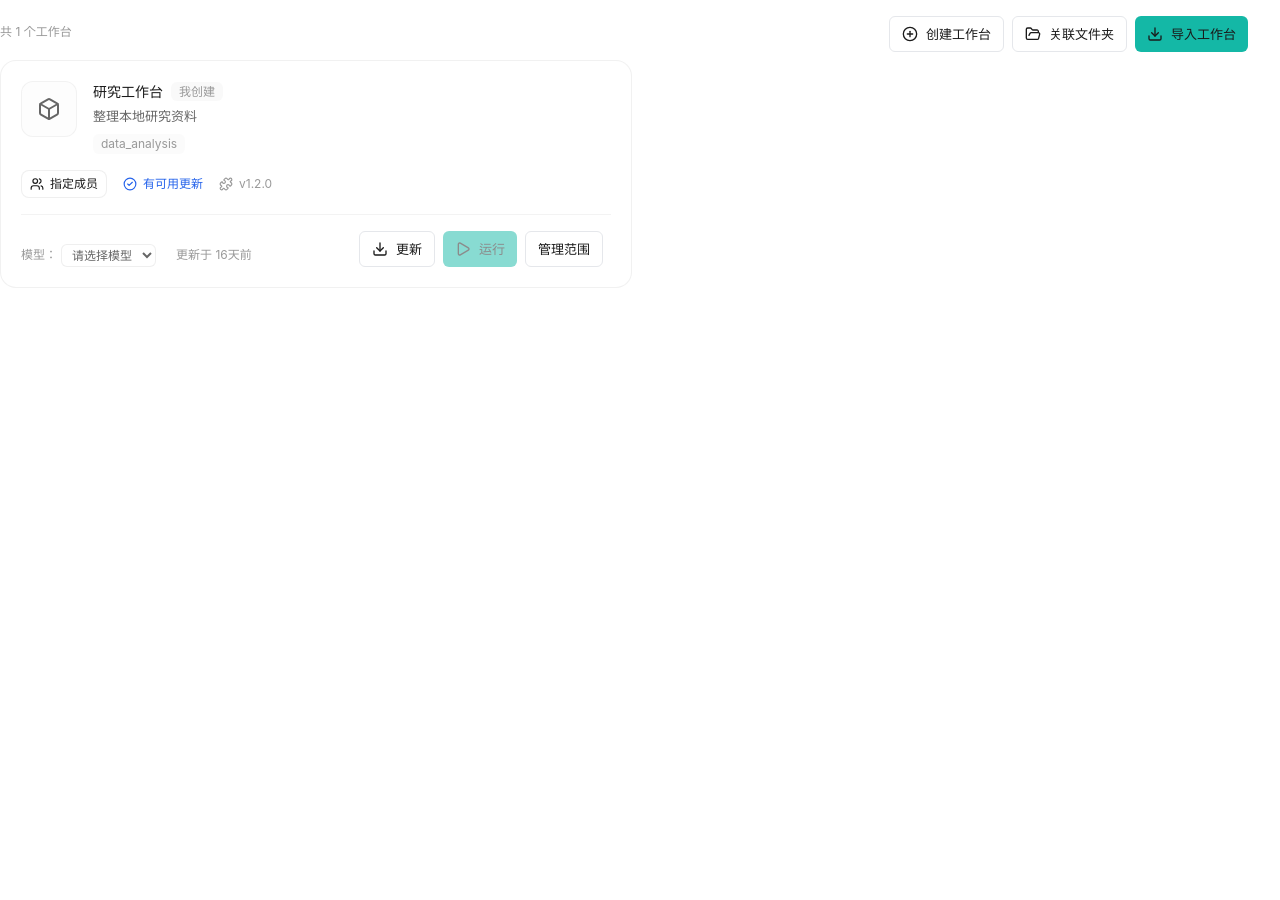
Test case: SmartAppsMarketplacePage › reports when an administrator has unlisted a public app
Step 1. Click the button "指定成员" → (64, 184), box [21,170,107,198]
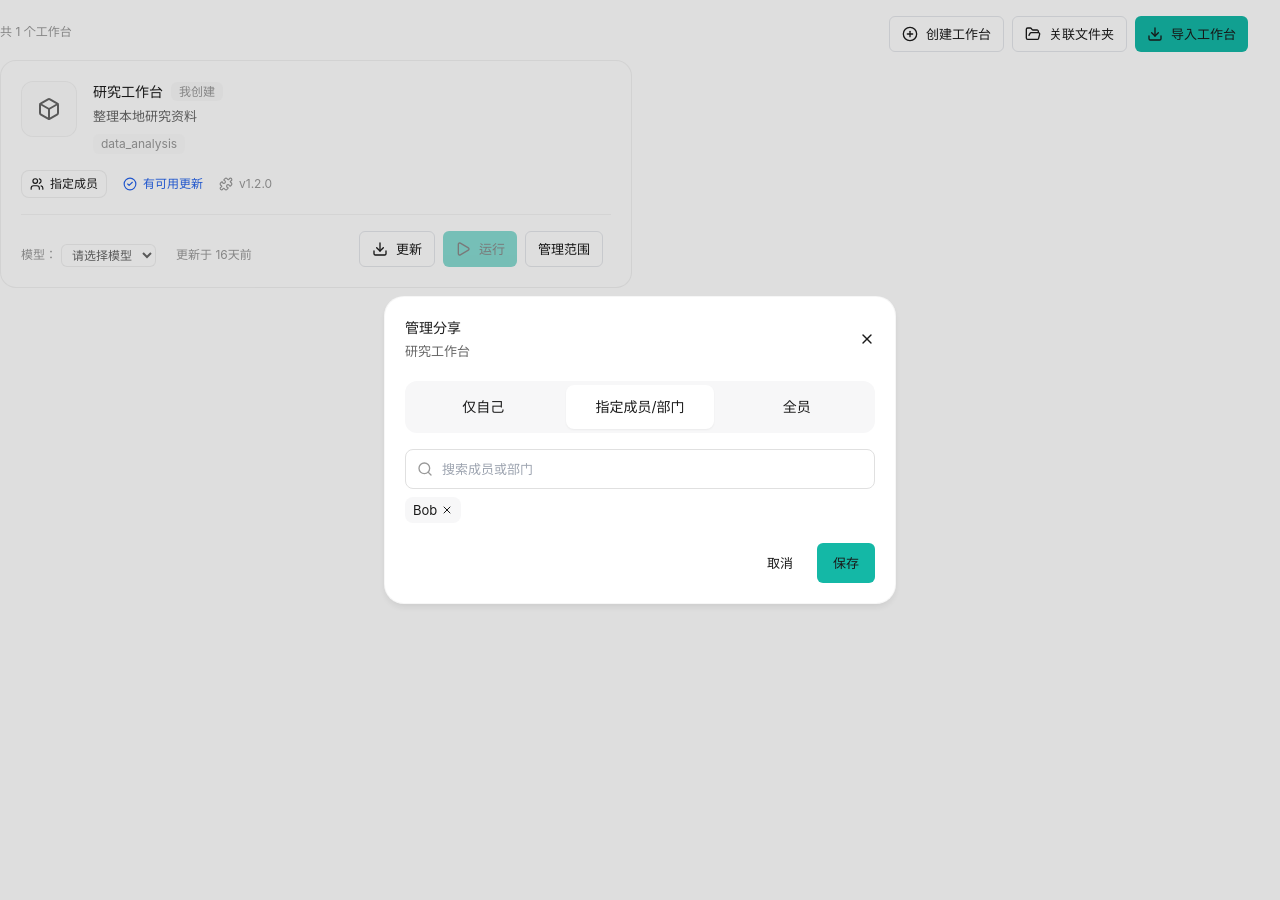
Expected: the dialog with test id "smart-app-share-dialog" is shown, [384,296,896,604]
Step 2. Click the button with test id "smart-app-share-scope-public" → (797, 406), box [722,384,871,428]
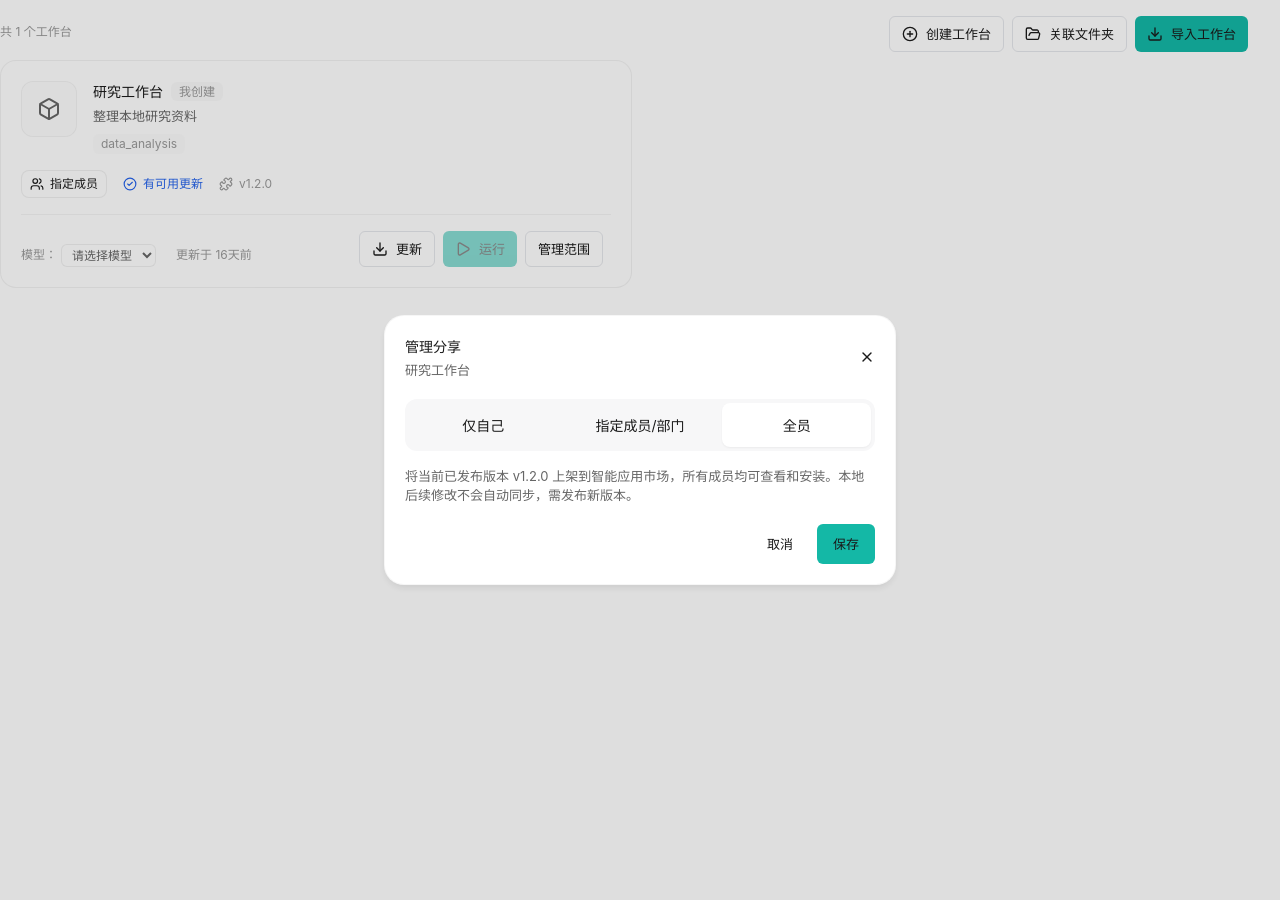
Step 3. Click the button with test id "smart-app-share-save" → (846, 544), box [817,524,875,564]
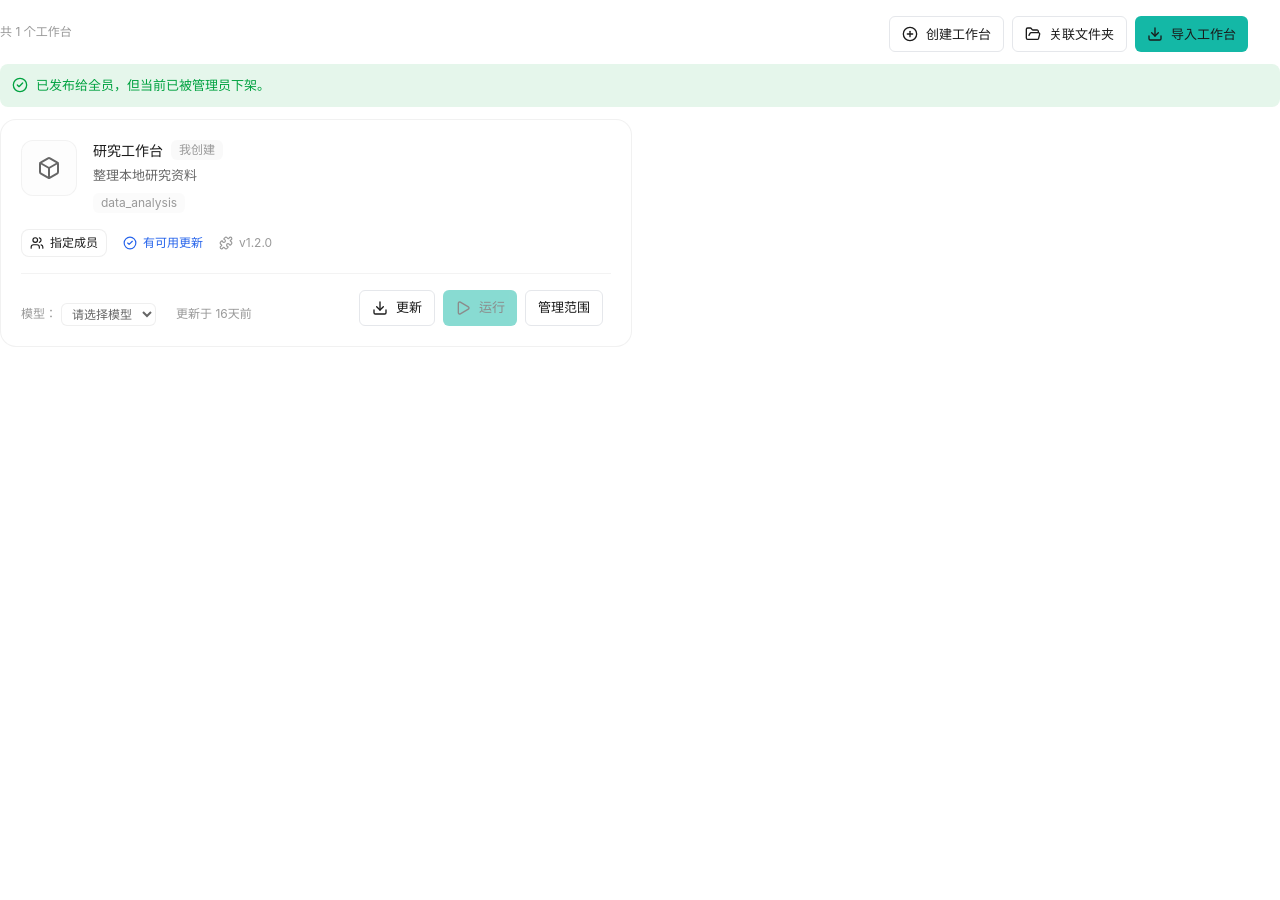
Expected: the message with test id "smart-app-access-success" reads "已发布给全员，但当前已被管理员下架。", [36,77,270,93]
